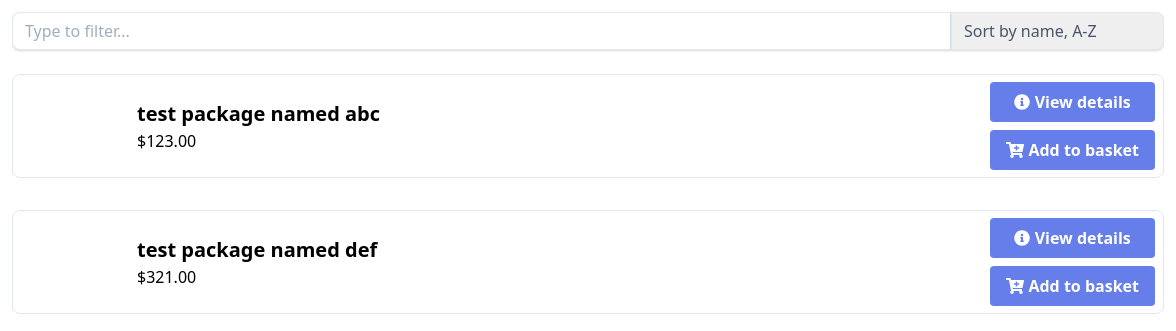
Test: Searches list › Can sort a list of packages
Check: the elements with test id "price" read "$123.00", "$321.00", in this order, box [137,130,196,152]; [137,266,196,288]
Step 1. Select "Sort by price, high to low" in the dropdown showing "Sort by name, A-Z" → [1058, 31], box [951,12,1164,50]
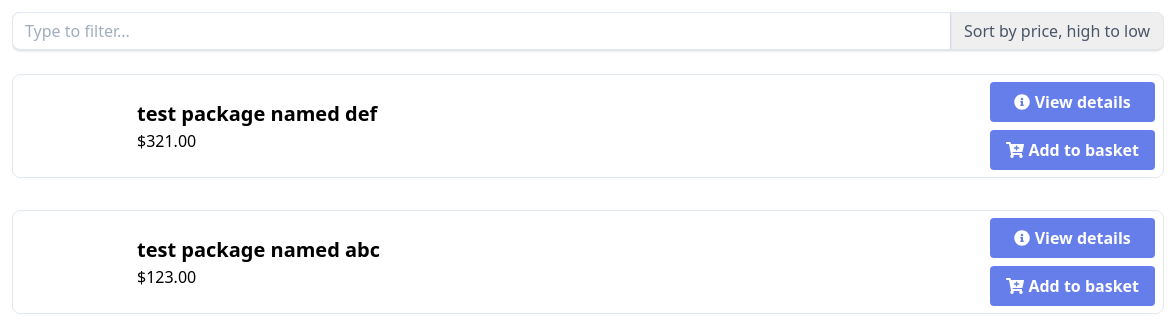
Check: the elements with test id "price" read "$321.00", "$123.00", in this order, box [137,130,196,152]; [137,266,196,288]
